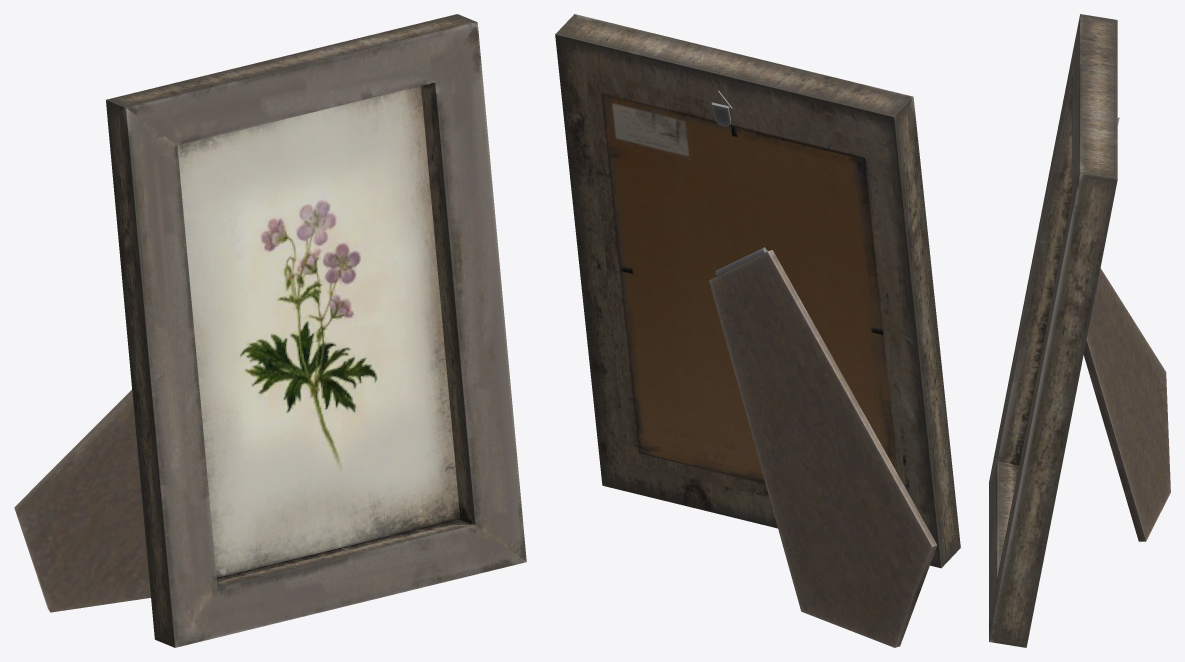
File: photoFrameTable04_a.FBX
The picture shows the model from 3 angles, left to right: view 1: azimuth 30°, elevation 25°; view 2: azimuth 150°, elevation 25°; view 3: azimuth 270°, elevation 25°; orthographic projection. The views are drawn at different scales.
Parts seen in each view (by area): view 1: SM_PhotoFrameTable04; view 2: SM_PhotoFrameTable04; view 3: SM_PhotoFrameTable04.
Boxes of the visible parts, left/top/right/bottom form: SM_PhotoFrameTable04: left=14, top=14, right=526, bottom=647; SM_PhotoFrameTable04: left=555, top=14, right=960, bottom=647; SM_PhotoFrameTable04: left=989, top=14, right=1170, bottom=647.
Bounding box in the file's own units: 22.63 × 27.36 × 9.16.
1 material, 1 textured.
